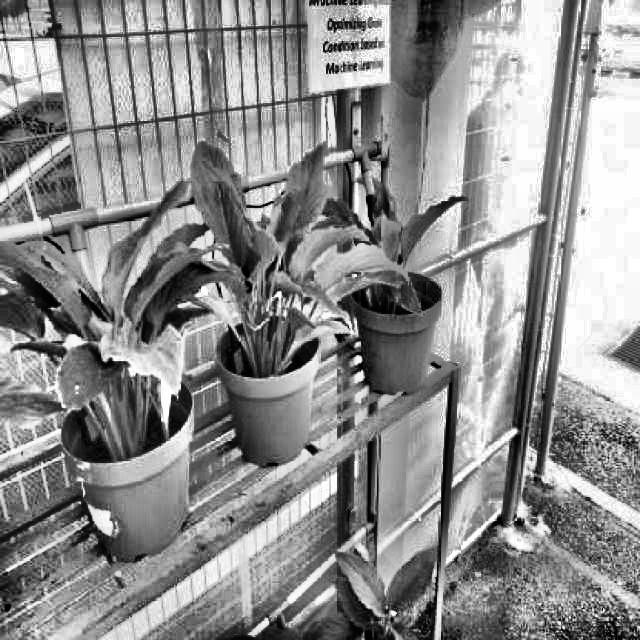plants: (4, 182, 230, 452), (174, 133, 373, 361), (317, 153, 448, 324)
